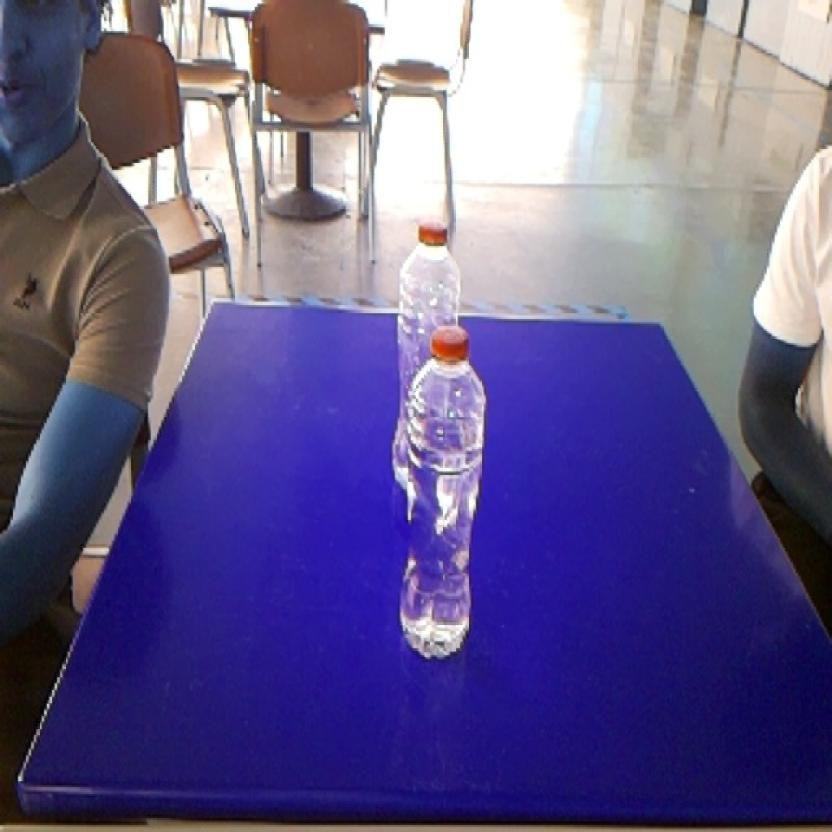no_label: (387, 320, 497, 670), (392, 208, 472, 324)
